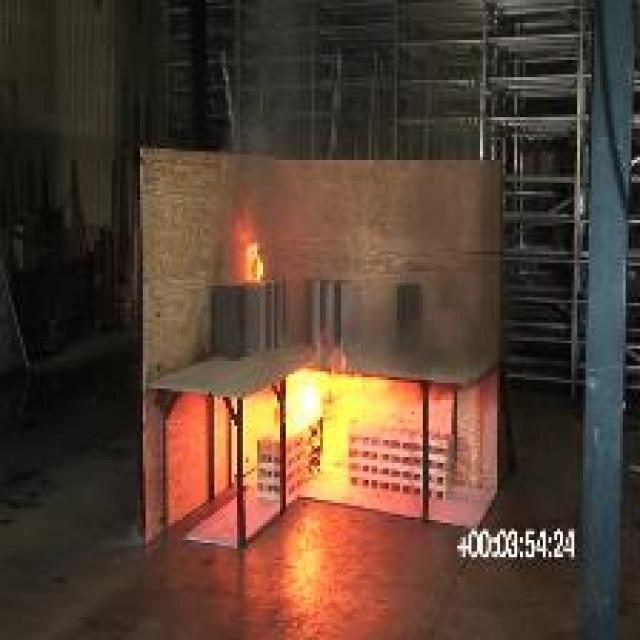Fire: (290, 334, 399, 469), (234, 196, 263, 281)
